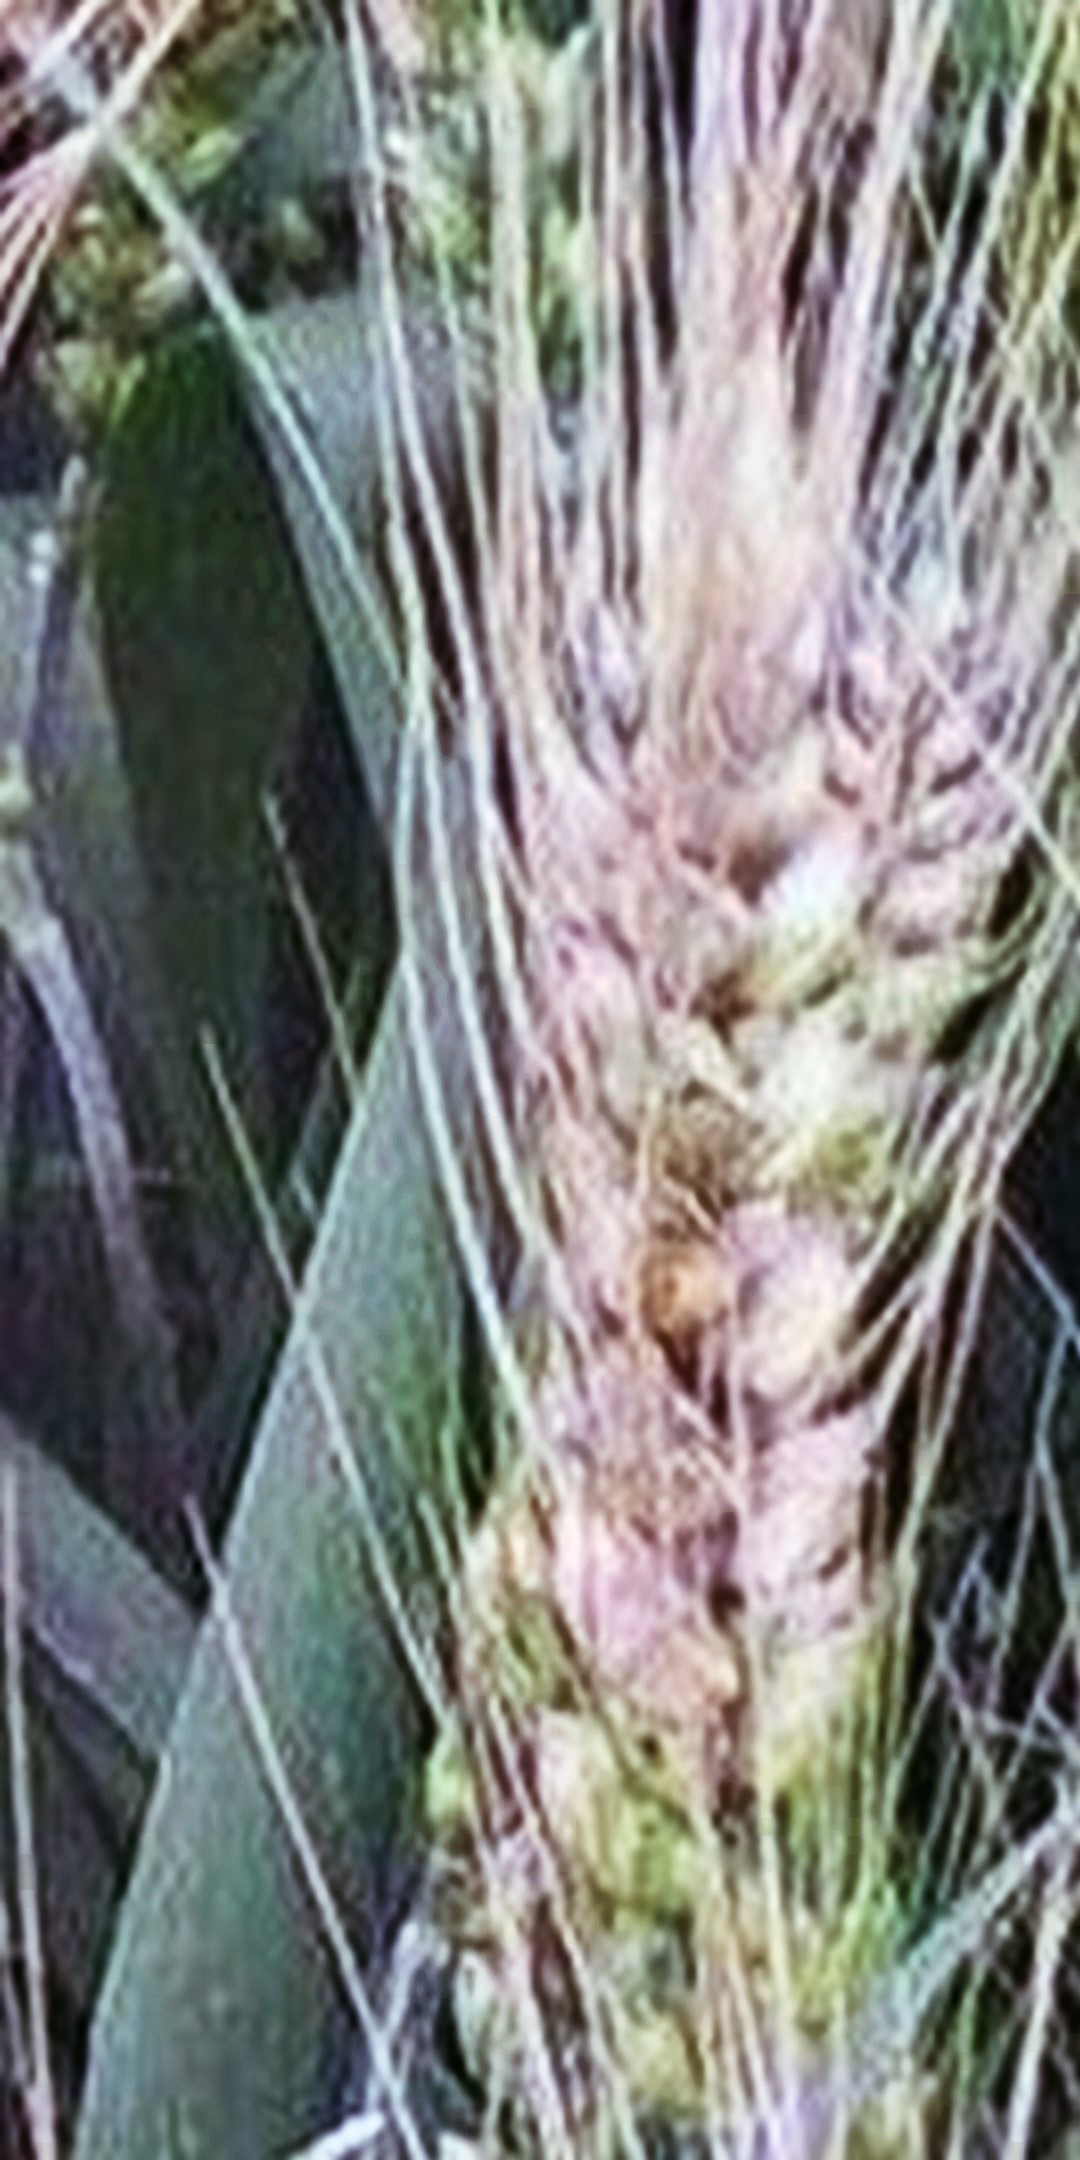Wheat scab: (478, 552, 904, 2008)
